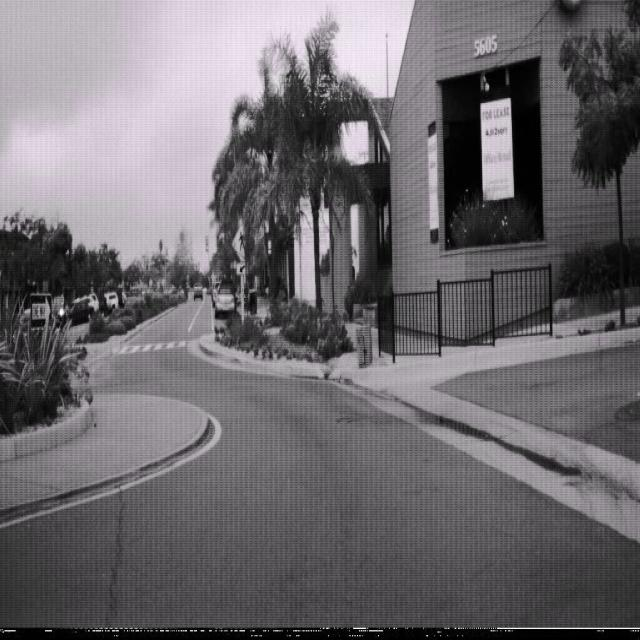pedestrianCrossing: (232, 221, 252, 262)
